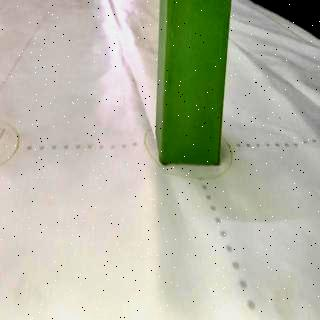greenbox: (156, 2, 232, 165)
